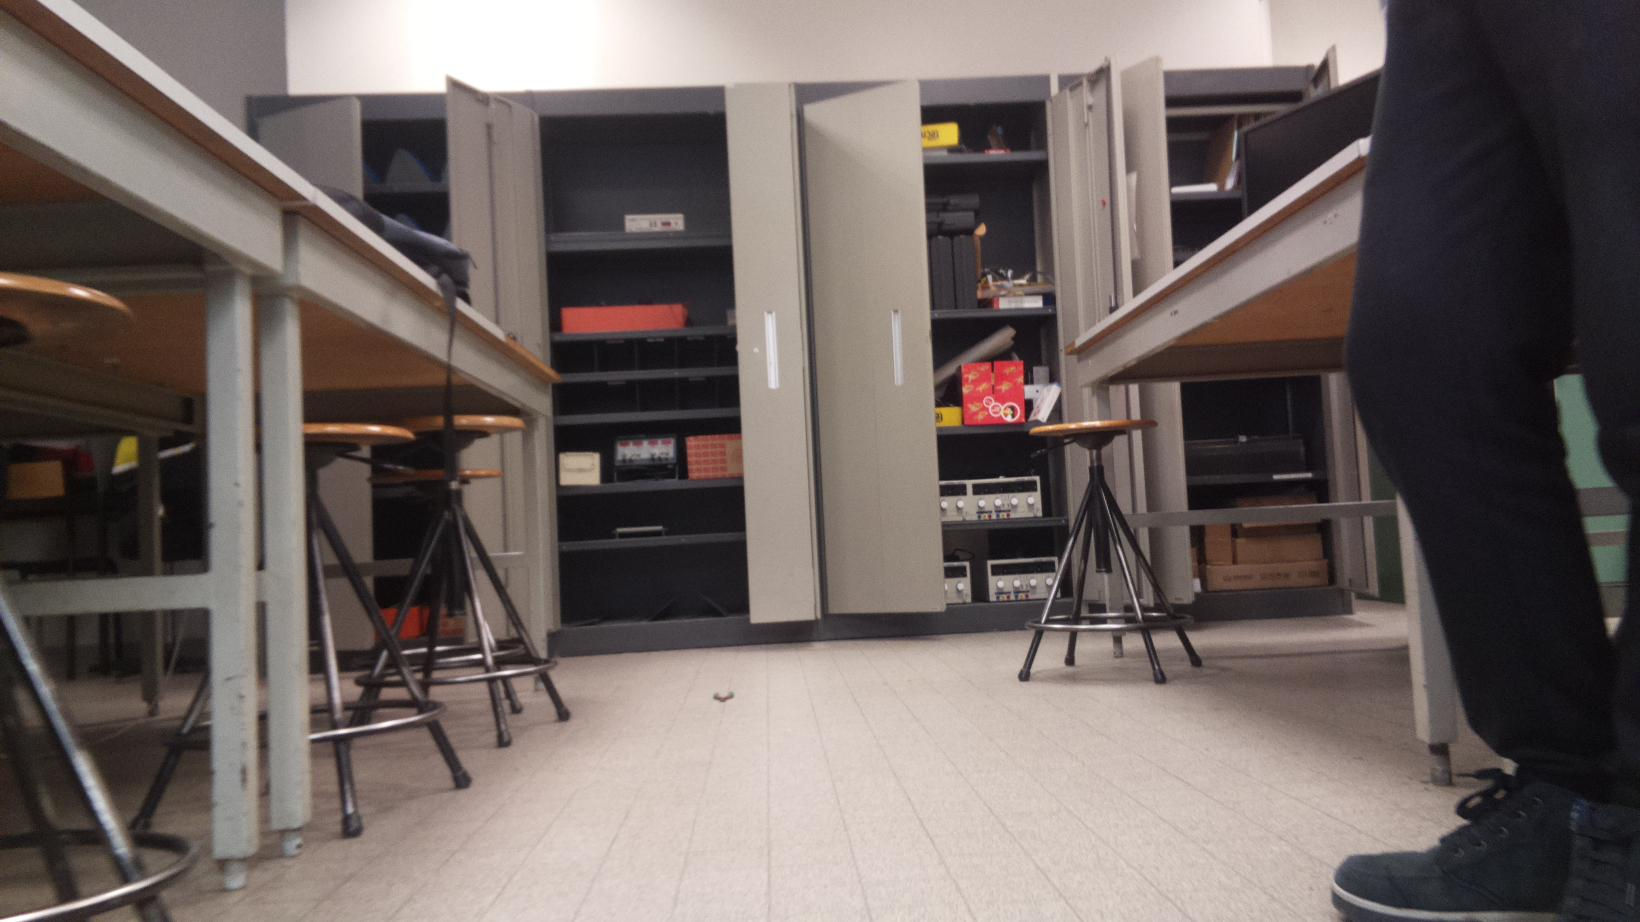small: (712, 690, 736, 704)
